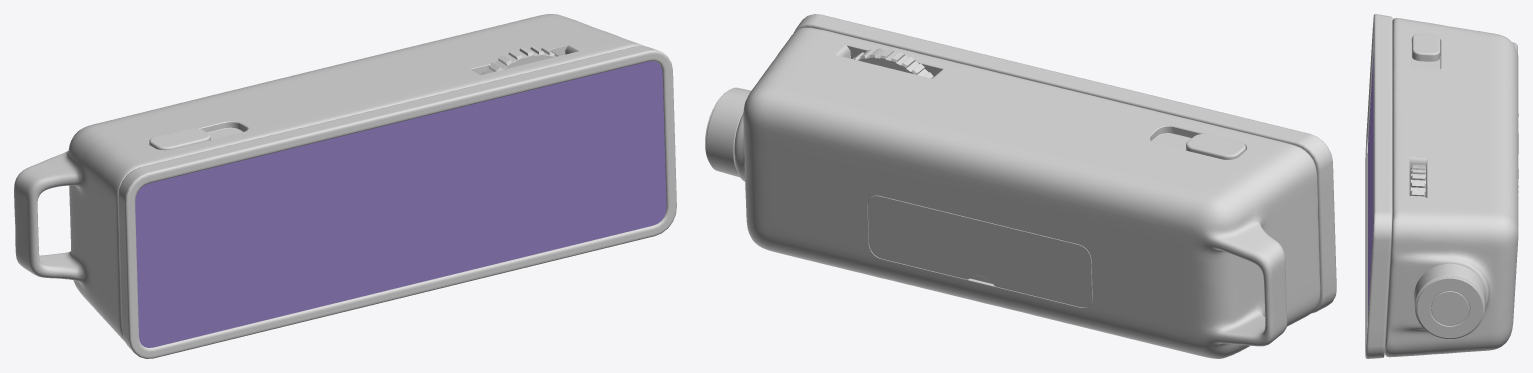
File: p_33_radio_sf.fbx
3 renders of one model, left to right at view 1: azimuth 30°, elevation 25°; view 2: azimuth 150°, elevation 25°; view 3: azimuth 270°, elevation 25°, orthographic. The views are drawn at different scales.
Parts seen in each view (by area): view 1: radio.010_low, radio.005_low, radio.003_low, radio.001_low, radio.004_low; view 2: radio.005_low, radio.006_low, radio.003_low, radio.002_low, radio.001_low, radio.004_low; view 3: radio.005_low, radio.003_low, radio.002_low, radio.010_low, radio.004_low, radio.001_low, radio.008_low.
Part boxes in pixels (x1,y1,x2,y2): radio.010_low: (135, 61, 666, 347); radio.005_low: (14, 14, 642, 341); radio.003_low: (118, 45, 676, 358); radio.001_low: (481, 47, 559, 74); radio.004_low: (149, 128, 210, 150); radio.005_low: (734, 27, 1320, 358); radio.006_low: (867, 195, 1092, 307); radio.003_low: (794, 14, 1336, 313); radio.002_low: (705, 87, 750, 177); radio.001_low: (852, 48, 933, 78); radio.004_low: (1186, 134, 1245, 159); radio.005_low: (1384, 18, 1518, 357); radio.003_low: (1365, 14, 1392, 358); radio.002_low: (1414, 263, 1485, 338); radio.010_low: (1367, 52, 1373, 321); radio.004_low: (1412, 33, 1440, 61); radio.001_low: (1409, 164, 1425, 197); radio.008_low: (1411, 44, 1440, 70).
Size of what is drawn, in the model's own units: 118 by 35.1 by 32.57.
